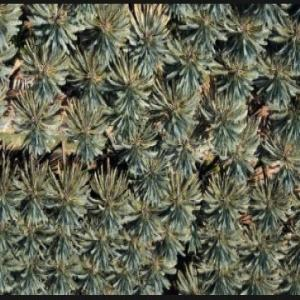palm tree: (0, 3, 299, 295)
